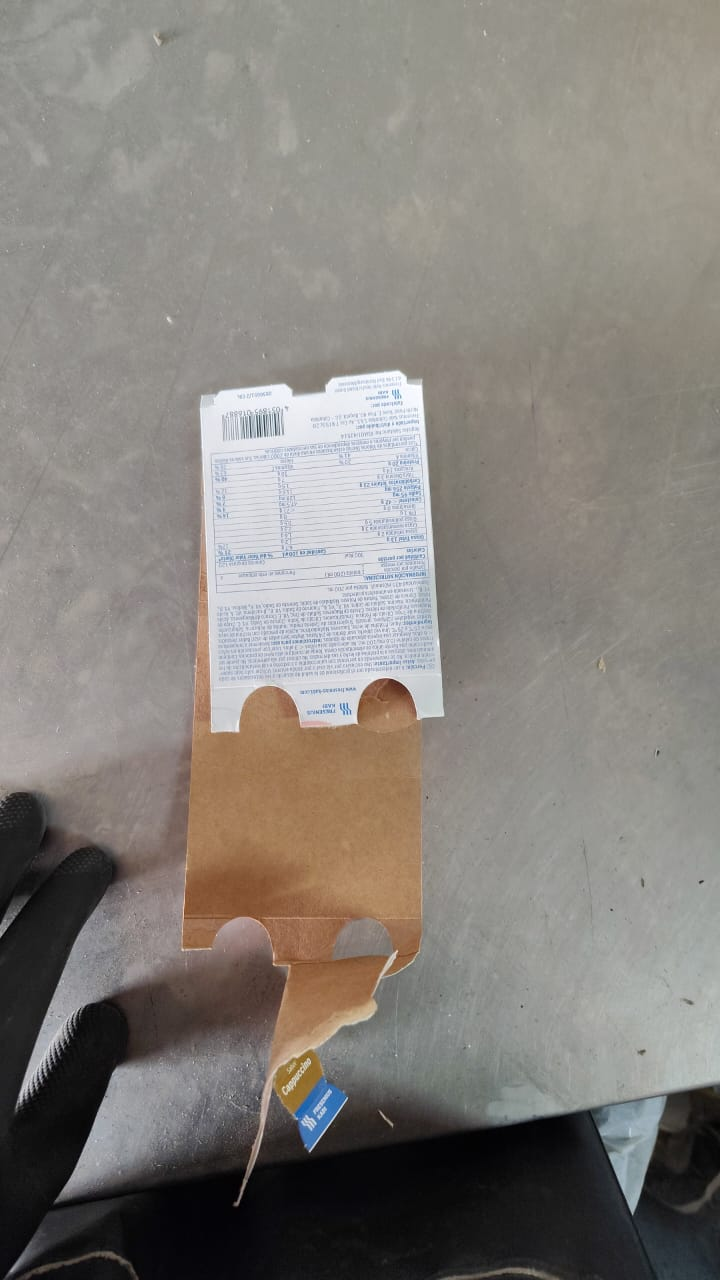Carton: (187, 368, 439, 957)
